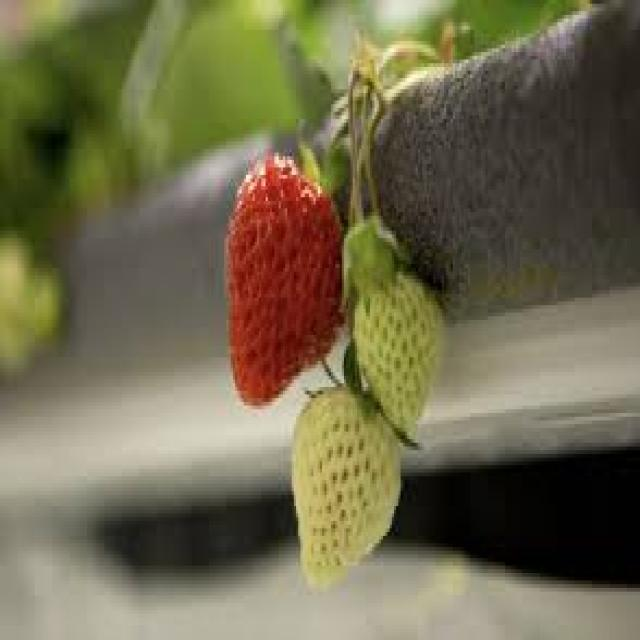strawberry: (212, 148, 348, 404)
